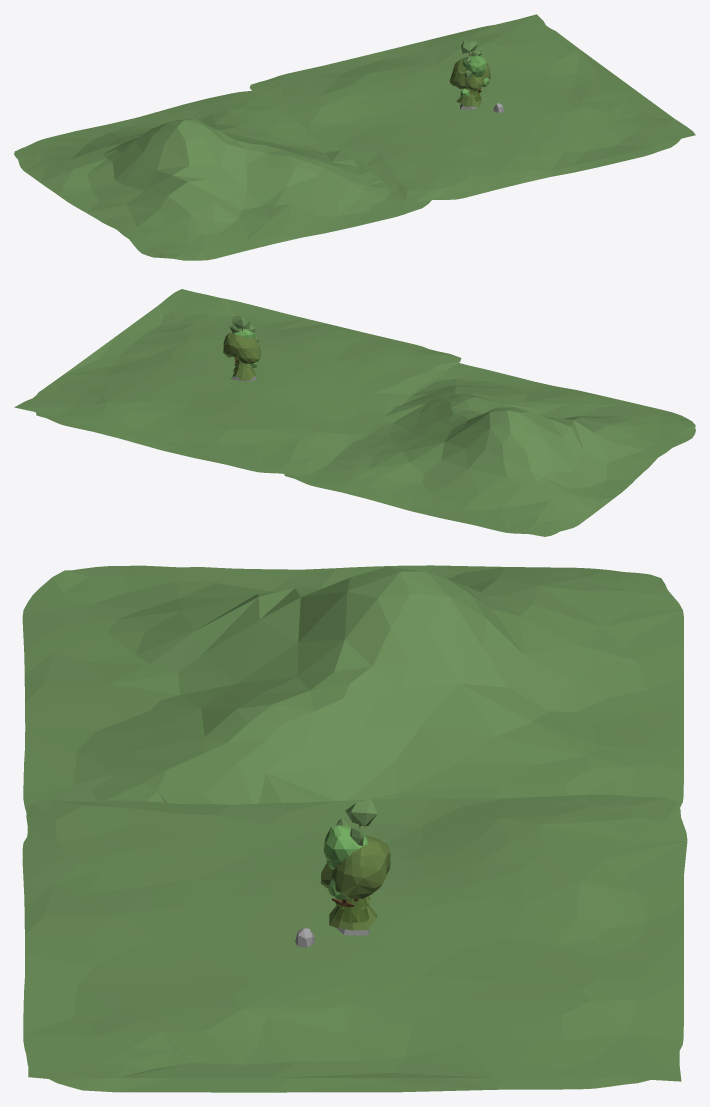
File: nature.glb
3 renders of one model, top to bottom at view 1: azimuth 30°, elevation 25°; view 2: azimuth 150°, elevation 25°; view 3: azimuth 270°, elevation 25°, orthographic. The views are drawn at different scales.
Parts seen in each view (by area): view 1: Ground_03, Ground_02, Ground_01, Tree_03_LOD0, Tree_01_LOD0; view 2: Ground_03, Ground_02, Ground_01, Tree_03_LOD0; view 3: Ground_03, Ground_02, Ground_01, Tree_03_LOD0, Tree_01_LOD0, Tree_04_LOD0.
Part boxes in pixels (x1,y1,x2,y2): Ground_03: [249, 14, 695, 202]; Ground_02: [14, 91, 431, 260]; Ground_01: [306, 129, 680, 199]; Tree_03_LOD0: [449, 57, 490, 91]; Tree_01_LOD0: [460, 55, 489, 97]; Ground_03: [14, 289, 461, 476]; Ground_02: [284, 363, 695, 536]; Ground_01: [36, 370, 447, 476]; Tree_03_LOD0: [223, 333, 260, 364]; Ground_03: [22, 794, 687, 1081]; Ground_02: [22, 565, 683, 813]; Ground_01: [22, 858, 683, 1092]; Tree_03_LOD0: [321, 835, 390, 901]; Tree_01_LOD0: [323, 825, 367, 907]; Tree_04_LOD0: [336, 799, 377, 865].
Size of what is drawn, in the model's own units: 55.91 by 7.62 by 29.9.
Materials: 24 (24 with a texture image).
